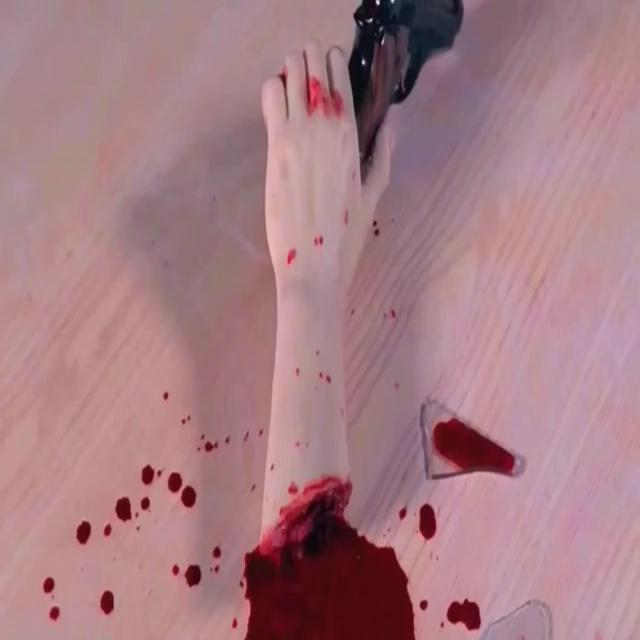flood: (86, 380, 512, 640), (294, 72, 351, 125)
